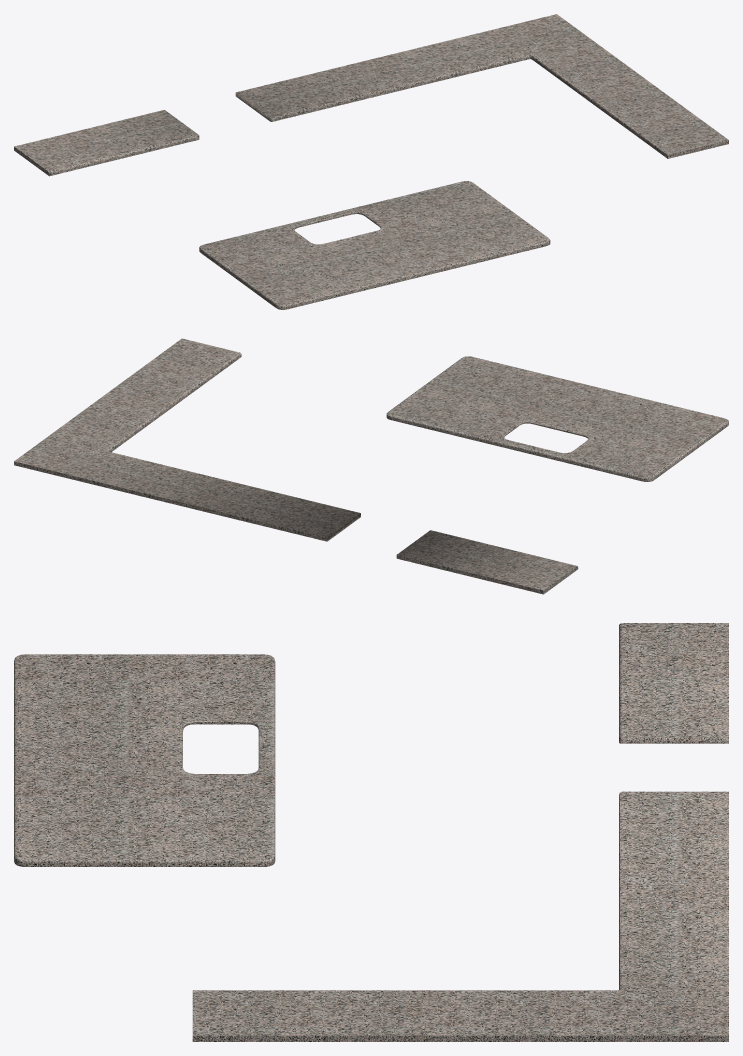
File: 1989_kitchen_Countertops_GraniteCaledonia.gltf
3 renders of one model, top to bottom at view 1: azimuth 30°, elevation 25°; view 2: azimuth 150°, elevation 25°; view 3: azimuth 270°, elevation 25°, orthographic. The views are drawn at different scales.
Parts seen in each view (by area): view 1: Countertop_granite_caledonia.001; view 2: Countertop_granite_caledonia.001; view 3: Countertop_granite_caledonia.001.
Boxes of the visible parts, box(x1,y1,x2,y2) form: Countertop_granite_caledonia.001: box(14, 14, 728, 309); Countertop_granite_caledonia.001: box(14, 338, 728, 594); Countertop_granite_caledonia.001: box(14, 623, 728, 1041).
Size of the model in its own units: 7.1 by 0.07 by 5.2.
1 material, 1 textured.
